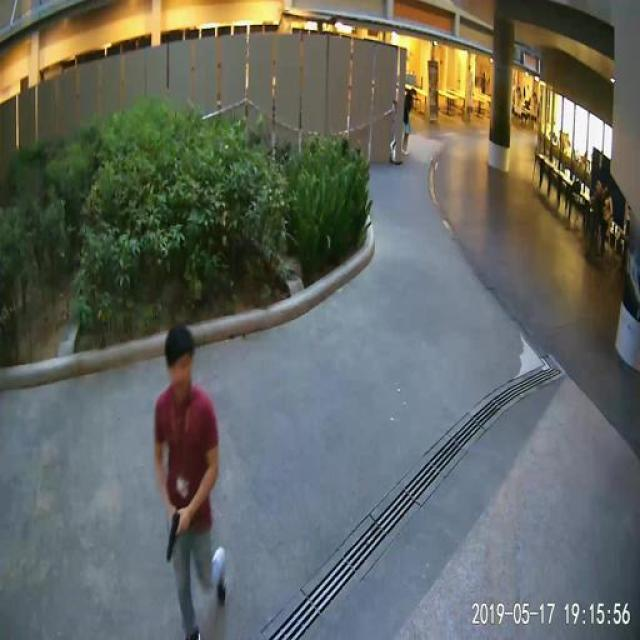Gun: (149, 492, 197, 572)
